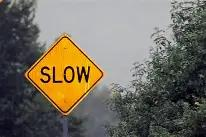Slow: (28, 37, 102, 112)
